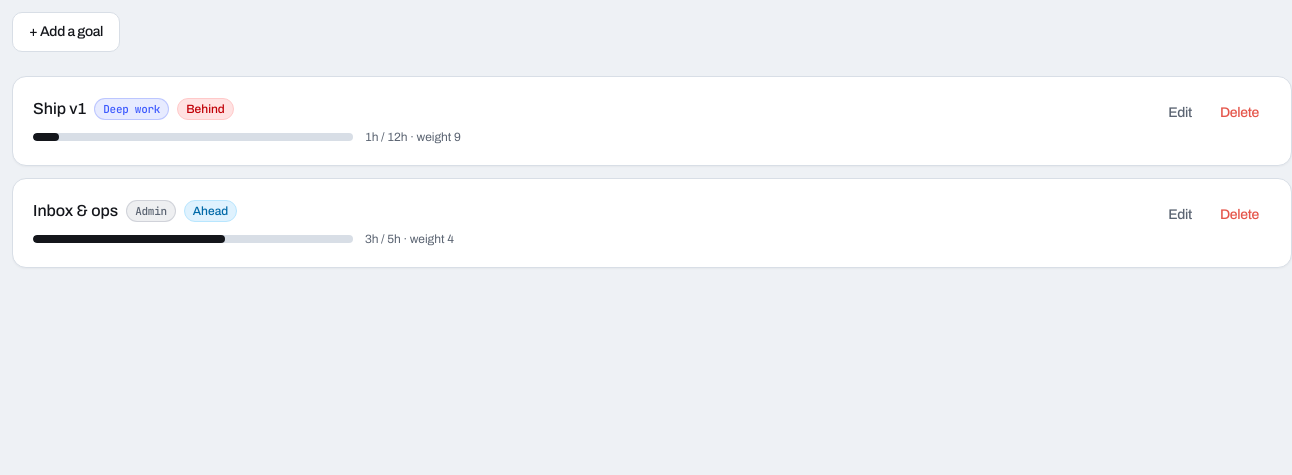
Test: GoalsBoard › opens the add-goal form on demand
The image size is (1292, 475).
What coordinates should you click on to do the following:
click the button "+ Add a goal"
I would click on:
 (66, 32)
Its box is x1=12 y1=12 x2=120 y2=52.
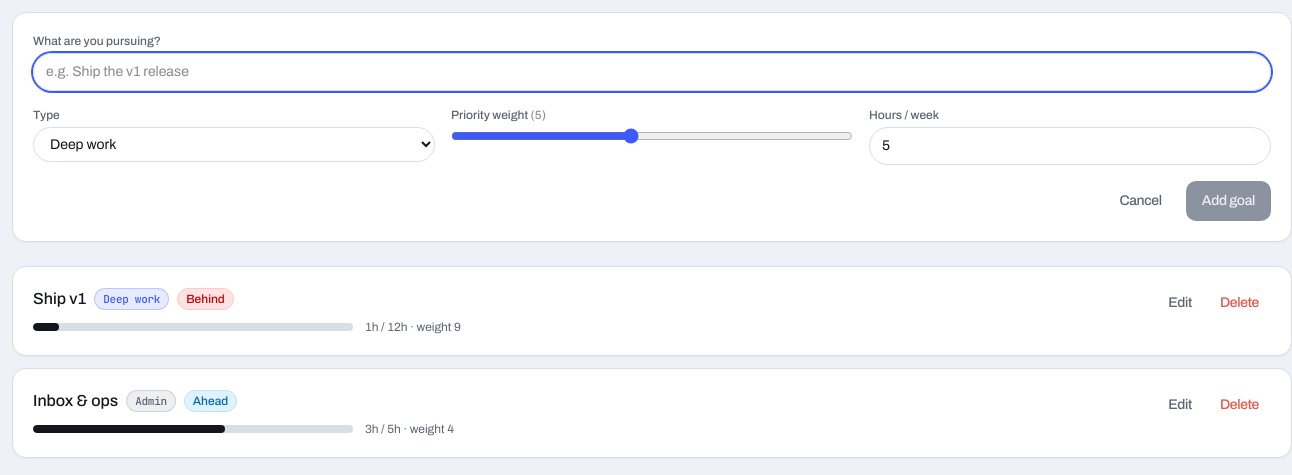
expect the field labelled "What are you pursuing?" is shown: met, box x1=33 y1=53 x2=1271 y2=91
